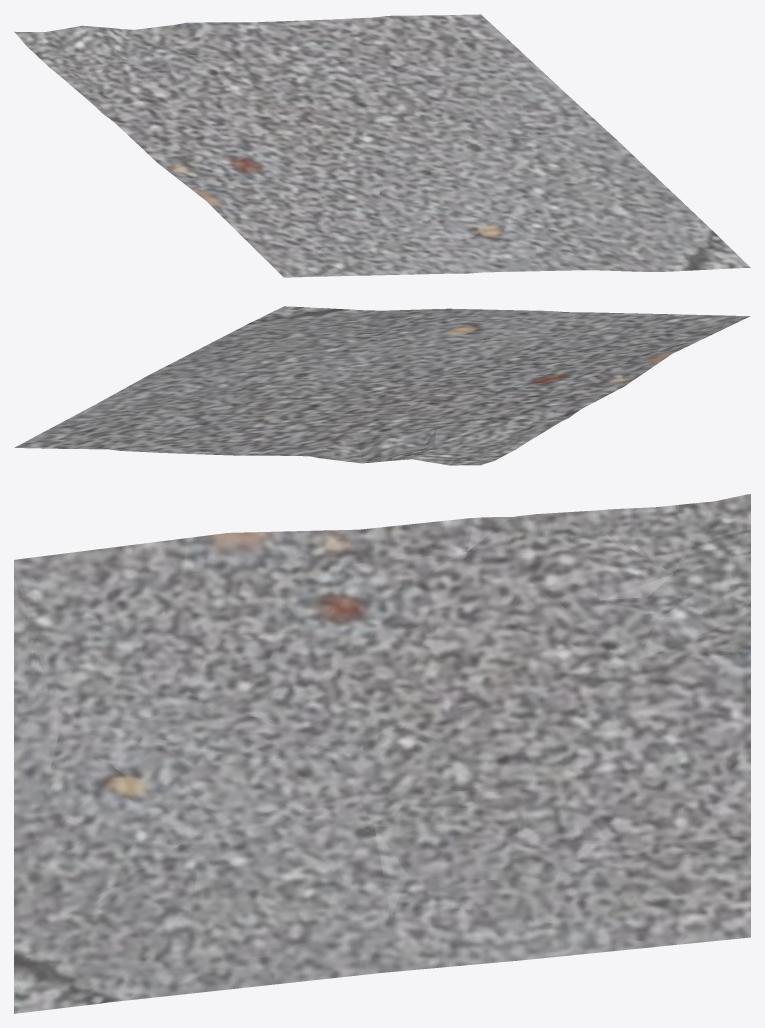
3 renders of one model, top to bottom at view 1: azimuth 30°, elevation 25°; view 2: azimuth 150°, elevation 25°; view 3: azimuth 270°, elevation 25°, orthographic. The views are drawn at different scales.
Bounding box in the file's own units: 0.8373 × 0.2613 × 0.8373.
3 materials, 3 textured.
